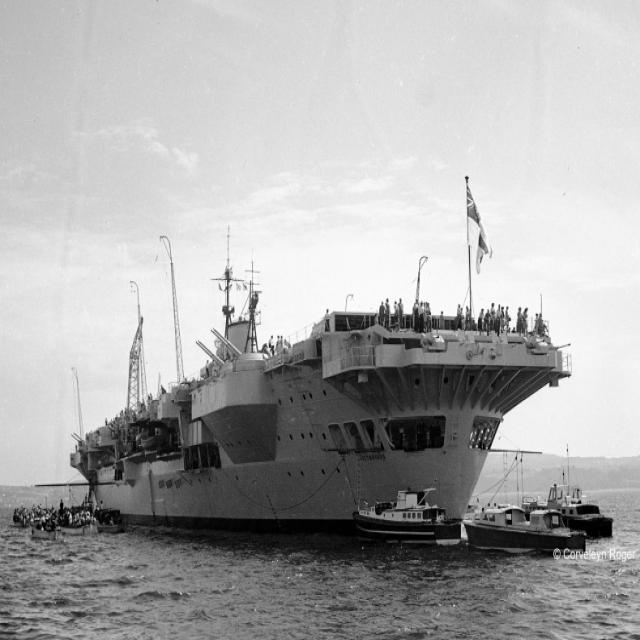Portanaves: (66, 166, 573, 548)
